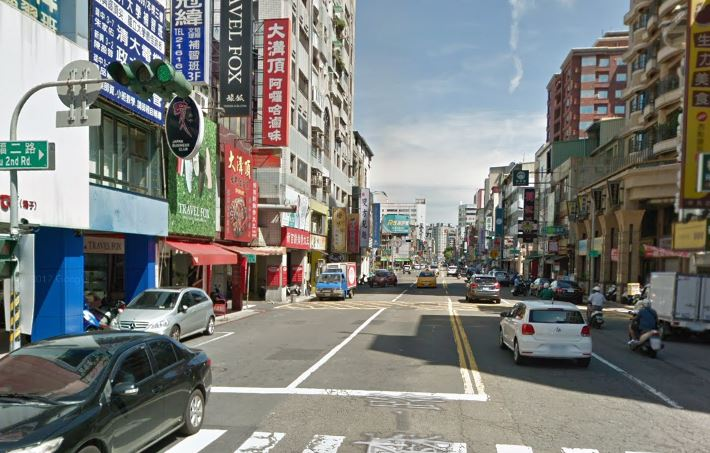Traffic_light_green: (104, 62, 195, 100)
car: (495, 299, 595, 369), (102, 283, 216, 343)
motorcycle: (624, 309, 667, 357)
